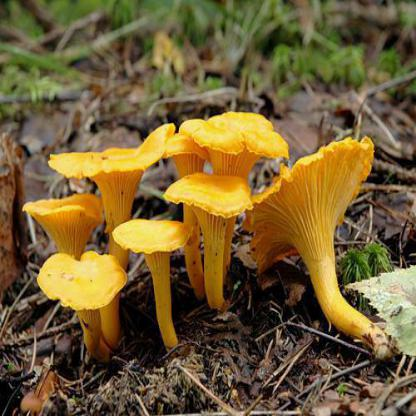chanterelle: (240, 134, 388, 360), (48, 123, 176, 345), (179, 110, 288, 283), (162, 172, 253, 311), (111, 218, 194, 354), (37, 250, 127, 360), (22, 192, 104, 261)
